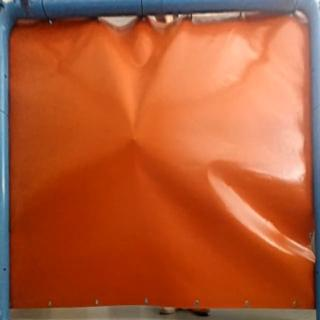Hit-hRxx: (128, 134, 144, 147)
